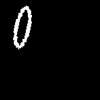chain: (13, 6, 31, 48)
